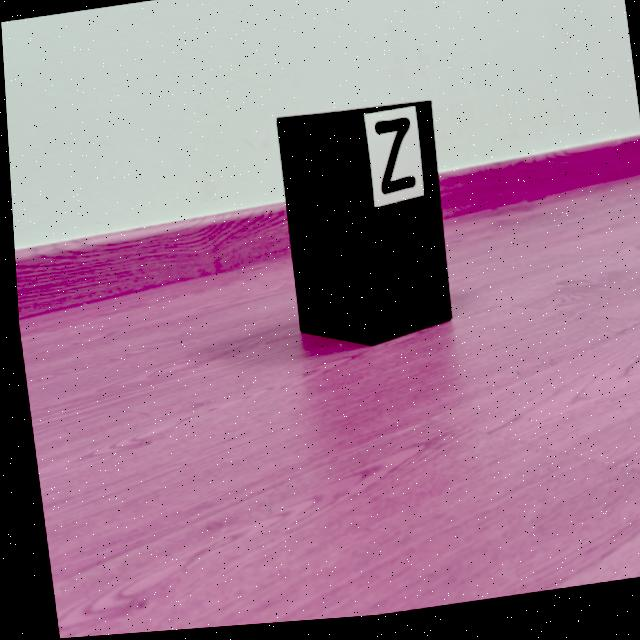Z: (372, 123, 413, 200)
